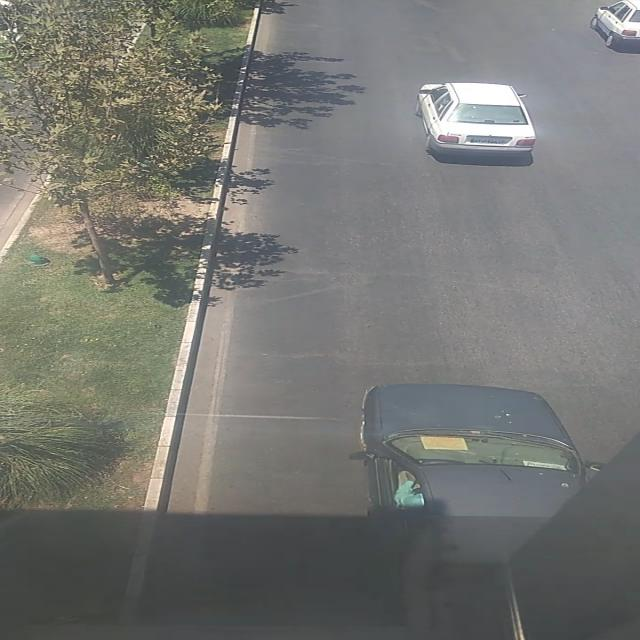car: (353, 384, 611, 616), (410, 83, 537, 161), (593, 1, 640, 52)
